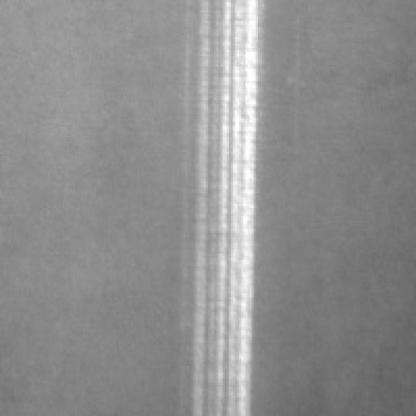scratches: (177, 0, 260, 412)
